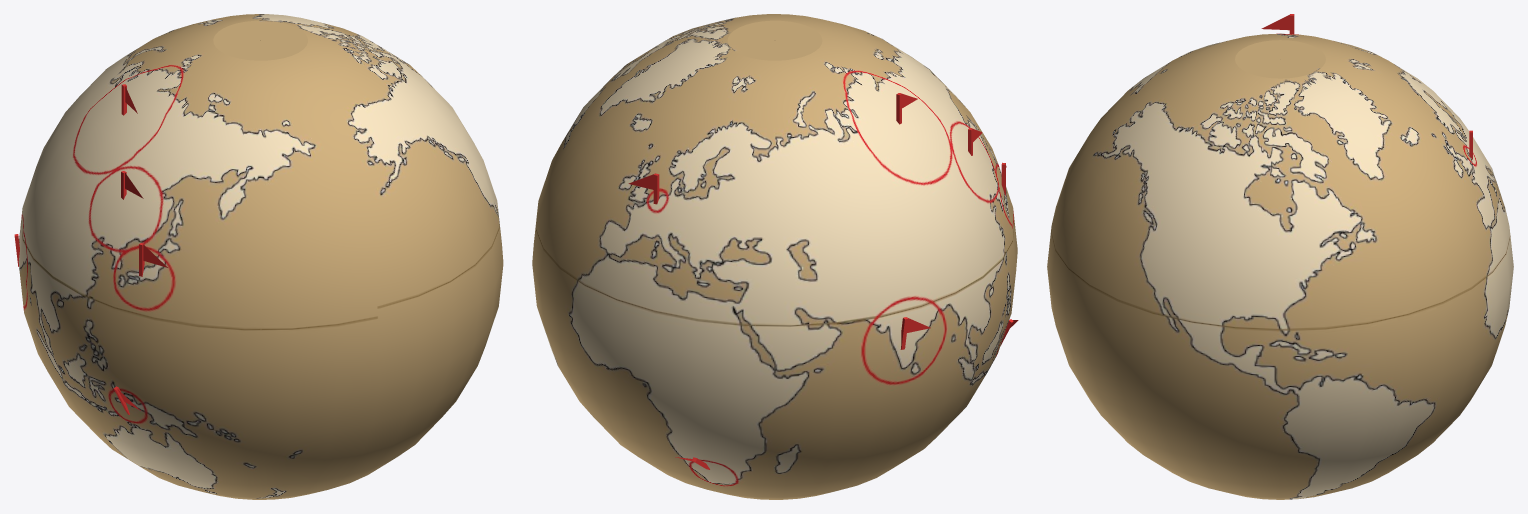
Rendered from globepuzzle.fbx.
3 renders of one model, left to right at view 1: azimuth 30°, elevation 25°; view 2: azimuth 150°, elevation 25°; view 3: azimuth 270°, elevation 25°, orthographic. The views are drawn at different scales.
Visible parts, largest first — view 1: Sphere; view 2: Sphere; view 3: Sphere.
Part boxes in pixels (x1,y1,x2,y2): Sphere: (18, 14, 503, 499); Sphere: (532, 14, 1017, 499); Sphere: (1047, 33, 1513, 499).
Size of the model in its own units: 200 by 196 by 200.
